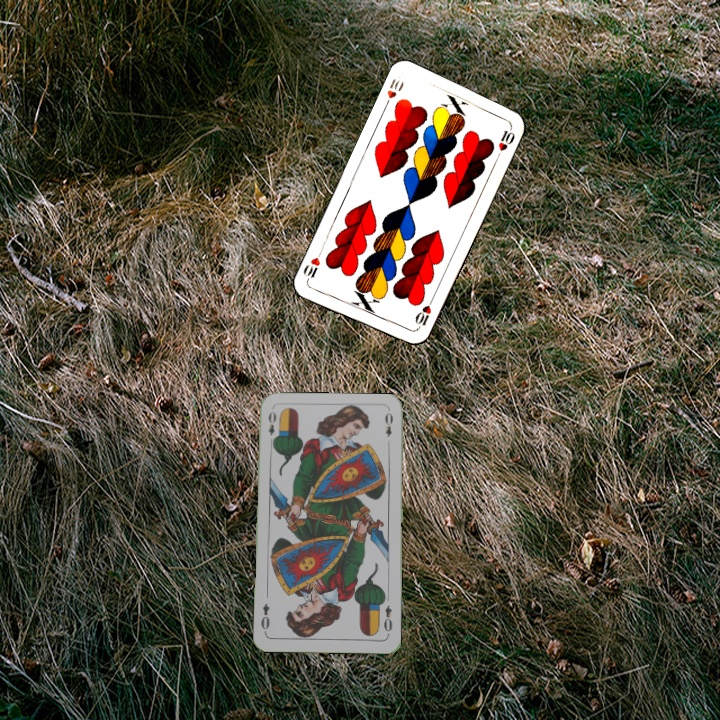EO: (264, 407, 279, 447), (380, 601, 395, 637)
H10: (380, 74, 406, 110), (411, 295, 435, 333)
